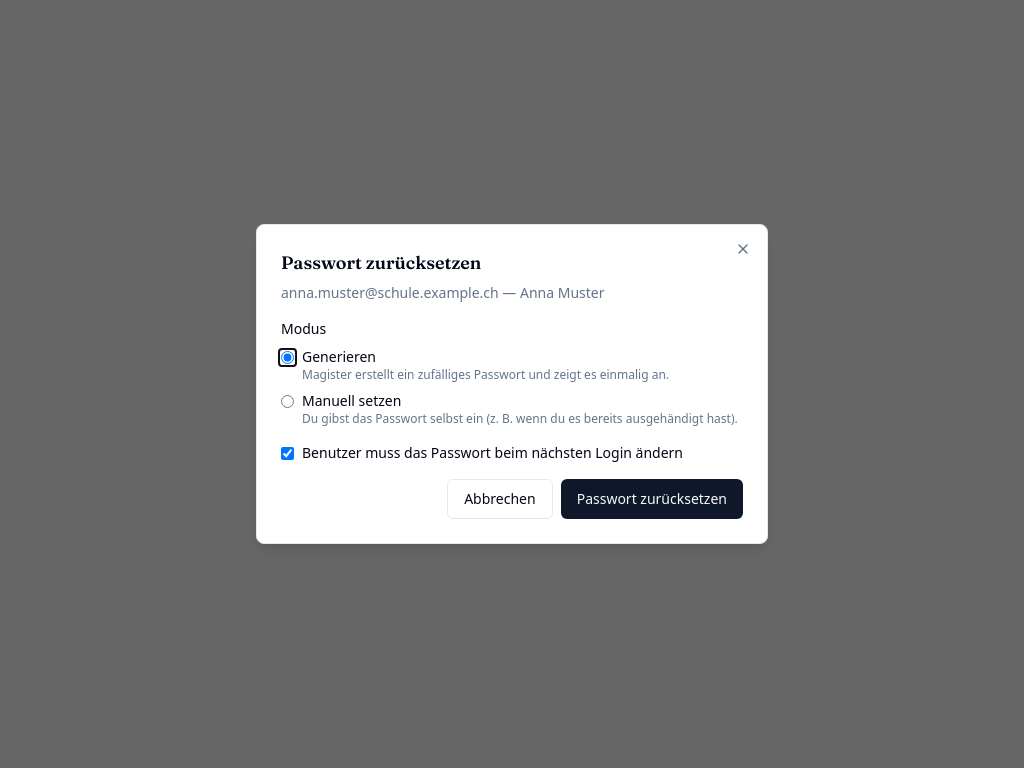
Scenario: ResetPasswordModal › maps a 503 ad_unavailable response to the i18n banner
Click the button "Passwort zurücksetzen" at (652,499), box top-left (561, 479), bottom-right (743, 519)
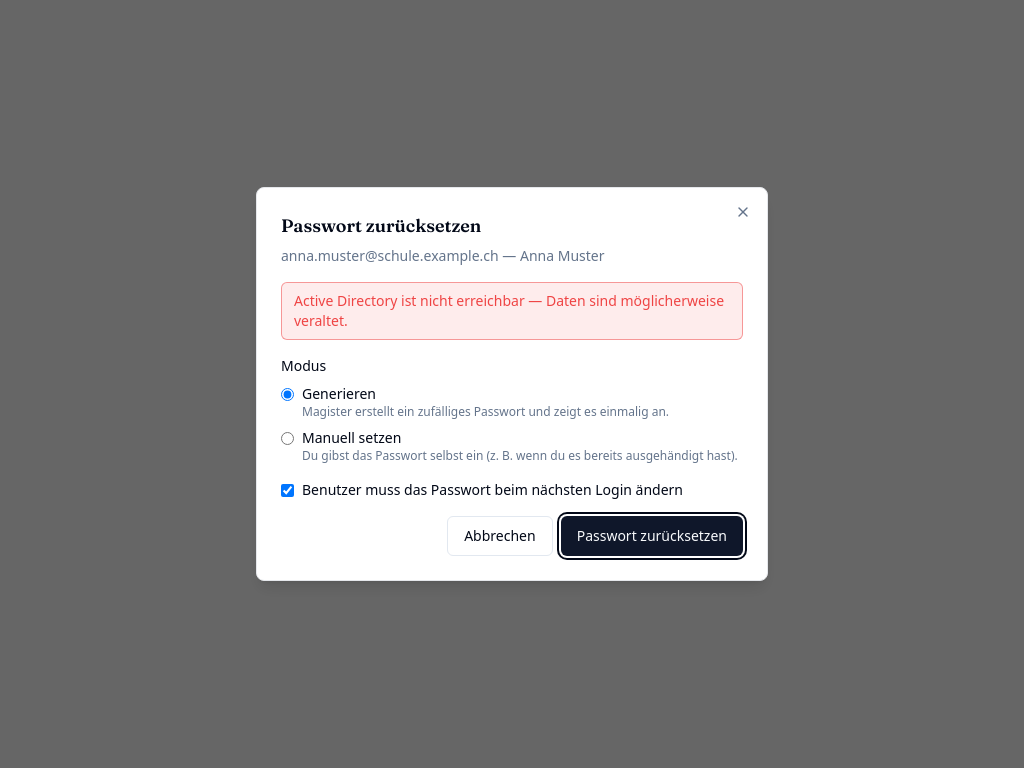
Now the message shows "Active Directory", box top-left (294, 291), bottom-right (724, 330)
